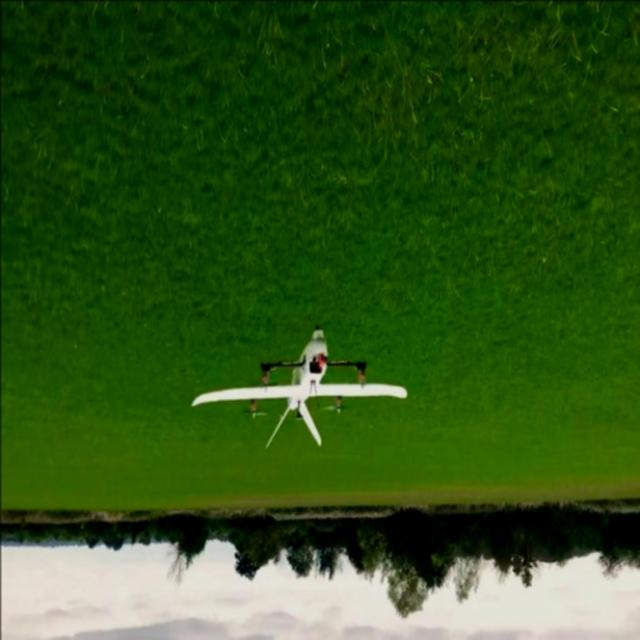plane: (188, 323, 407, 450)
